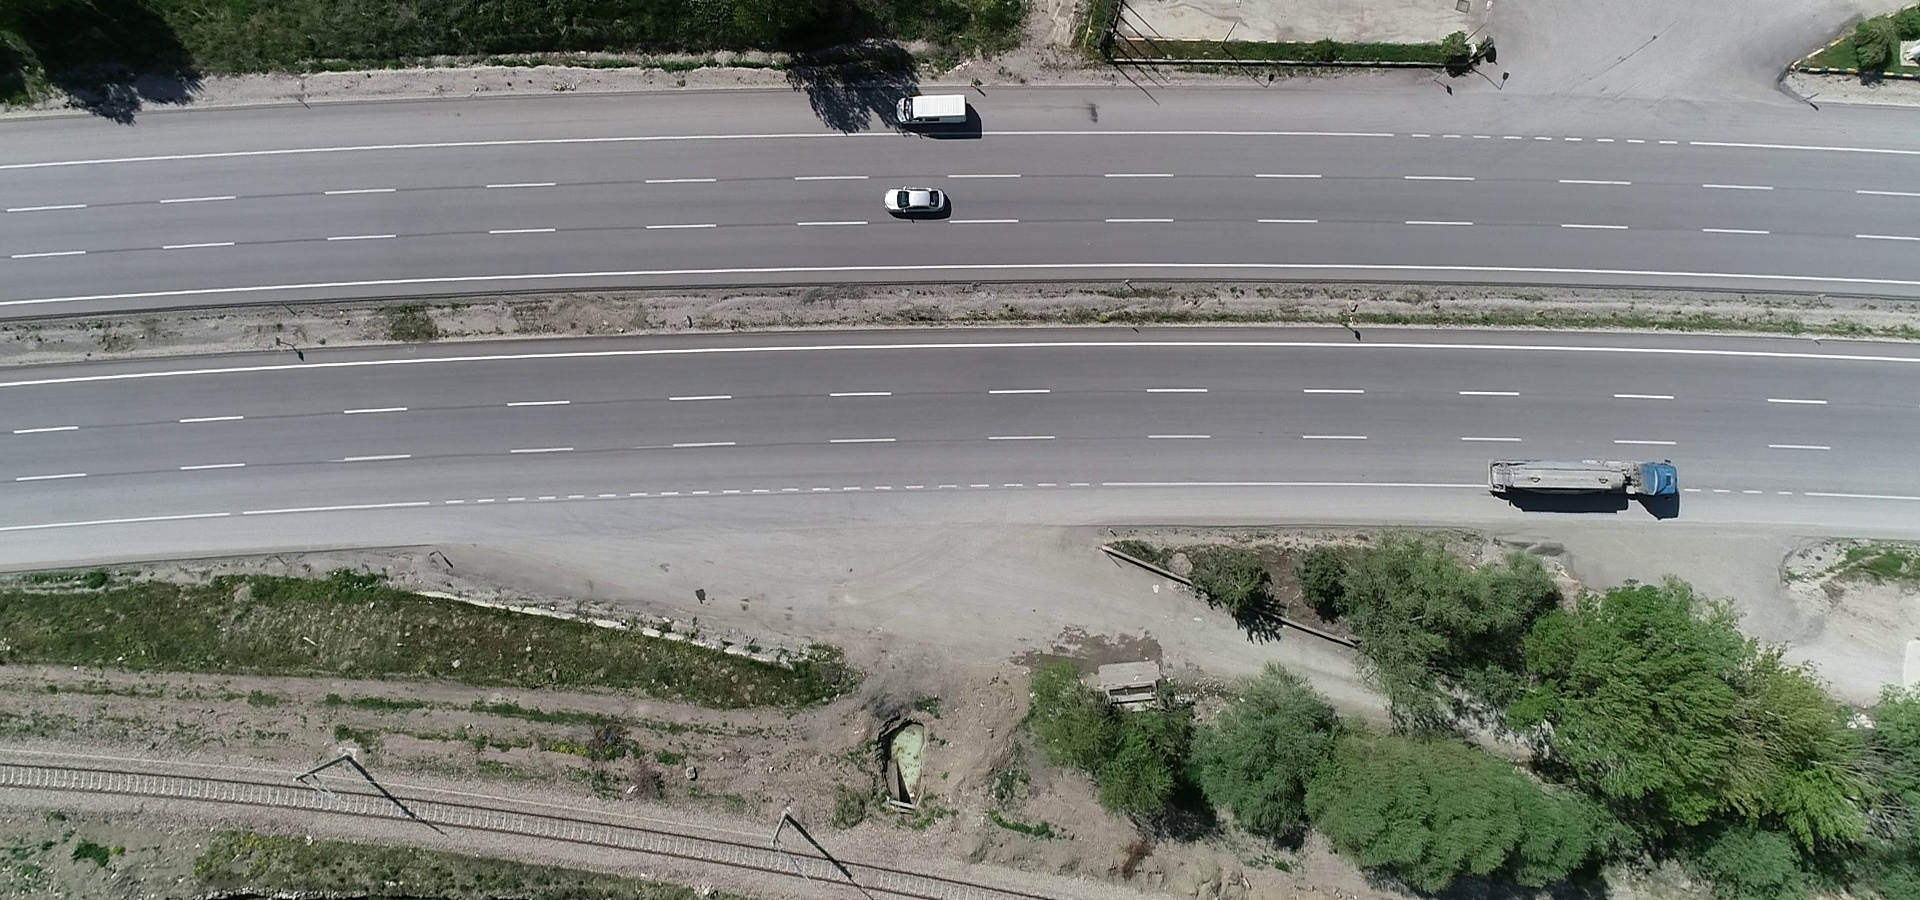araba: (891, 88, 978, 138), (876, 182, 958, 224)
kamyon: (1482, 456, 1687, 506)
